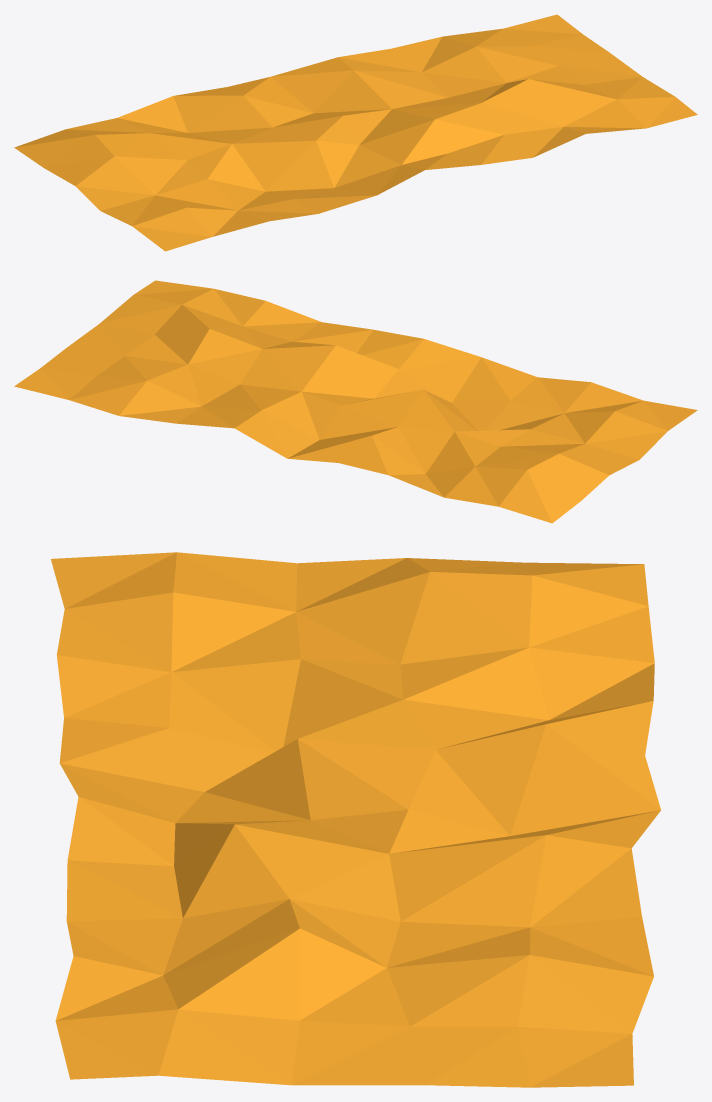
The model's file is SM_Planter_Box_Dirt_1x2m_Farm.fbx.
The picture shows the model from 3 angles, top to bottom: view 1: azimuth 30°, elevation 25°; view 2: azimuth 150°, elevation 25°; view 3: azimuth 270°, elevation 25°; orthographic projection. The views are drawn at different scales.
Parts seen in each view (by area): view 1: planter-box-dirt-1x2m-farm; view 2: planter-box-dirt-1x2m-farm; view 3: planter-box-dirt-1x2m-farm.
Boxes of the visible parts, x1,y1,x2,y2 form: planter-box-dirt-1x2m-farm: (14,14,697,251); planter-box-dirt-1x2m-farm: (14,280,697,523); planter-box-dirt-1x2m-farm: (51,552,660,1087).
Bounding box in the file's own units: 1.91 × 0.1488 × 0.9346.
